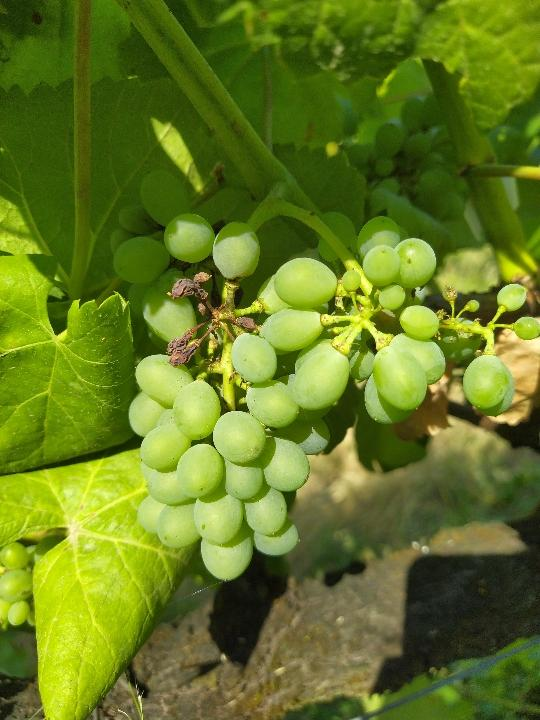grape: (102, 164, 537, 589)
